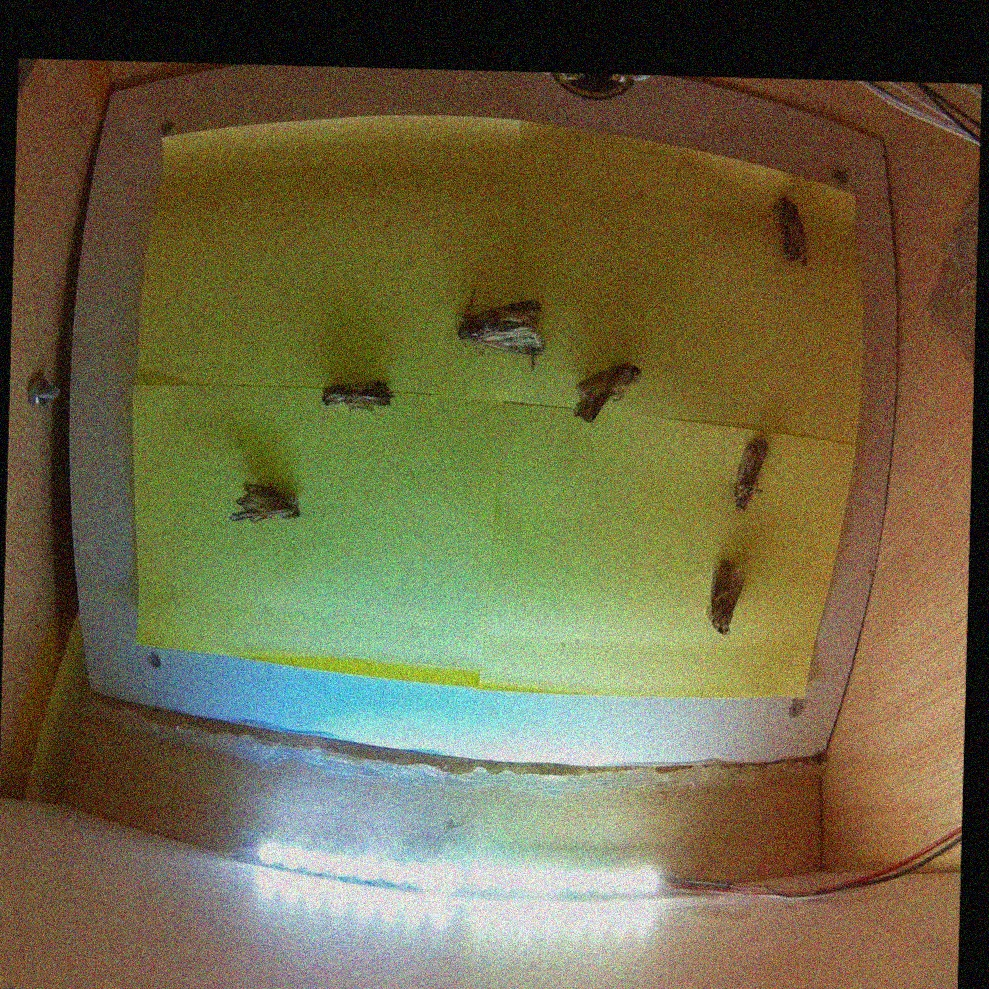Spodoptera litura: (454, 286, 544, 367), (570, 362, 640, 424), (224, 481, 302, 524), (769, 193, 813, 267), (734, 436, 768, 513), (710, 559, 743, 636), (321, 379, 393, 412)
